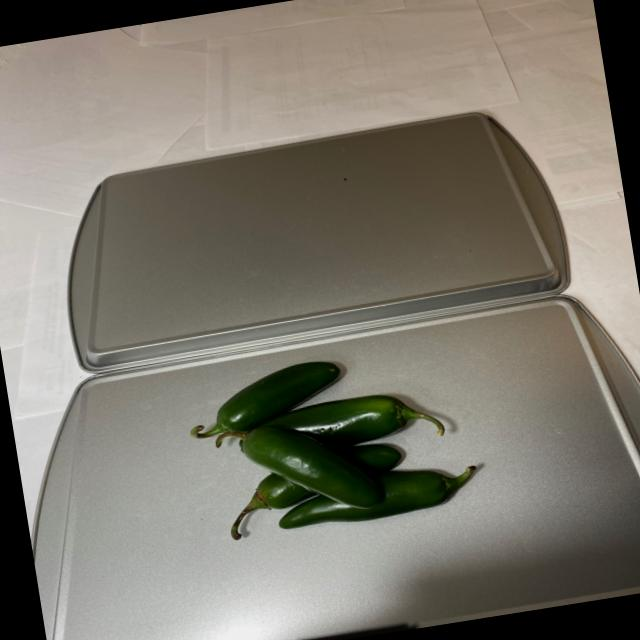chilli: (186, 330, 478, 542)
